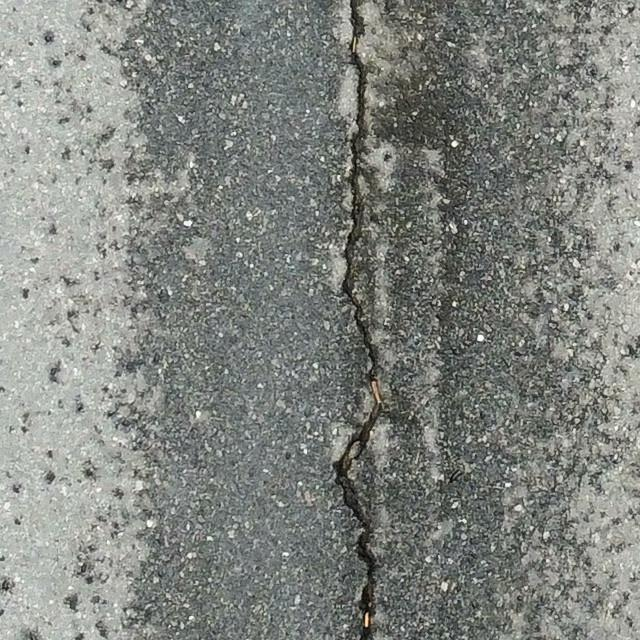LongitudinalCrack: (332, 1, 382, 640)
